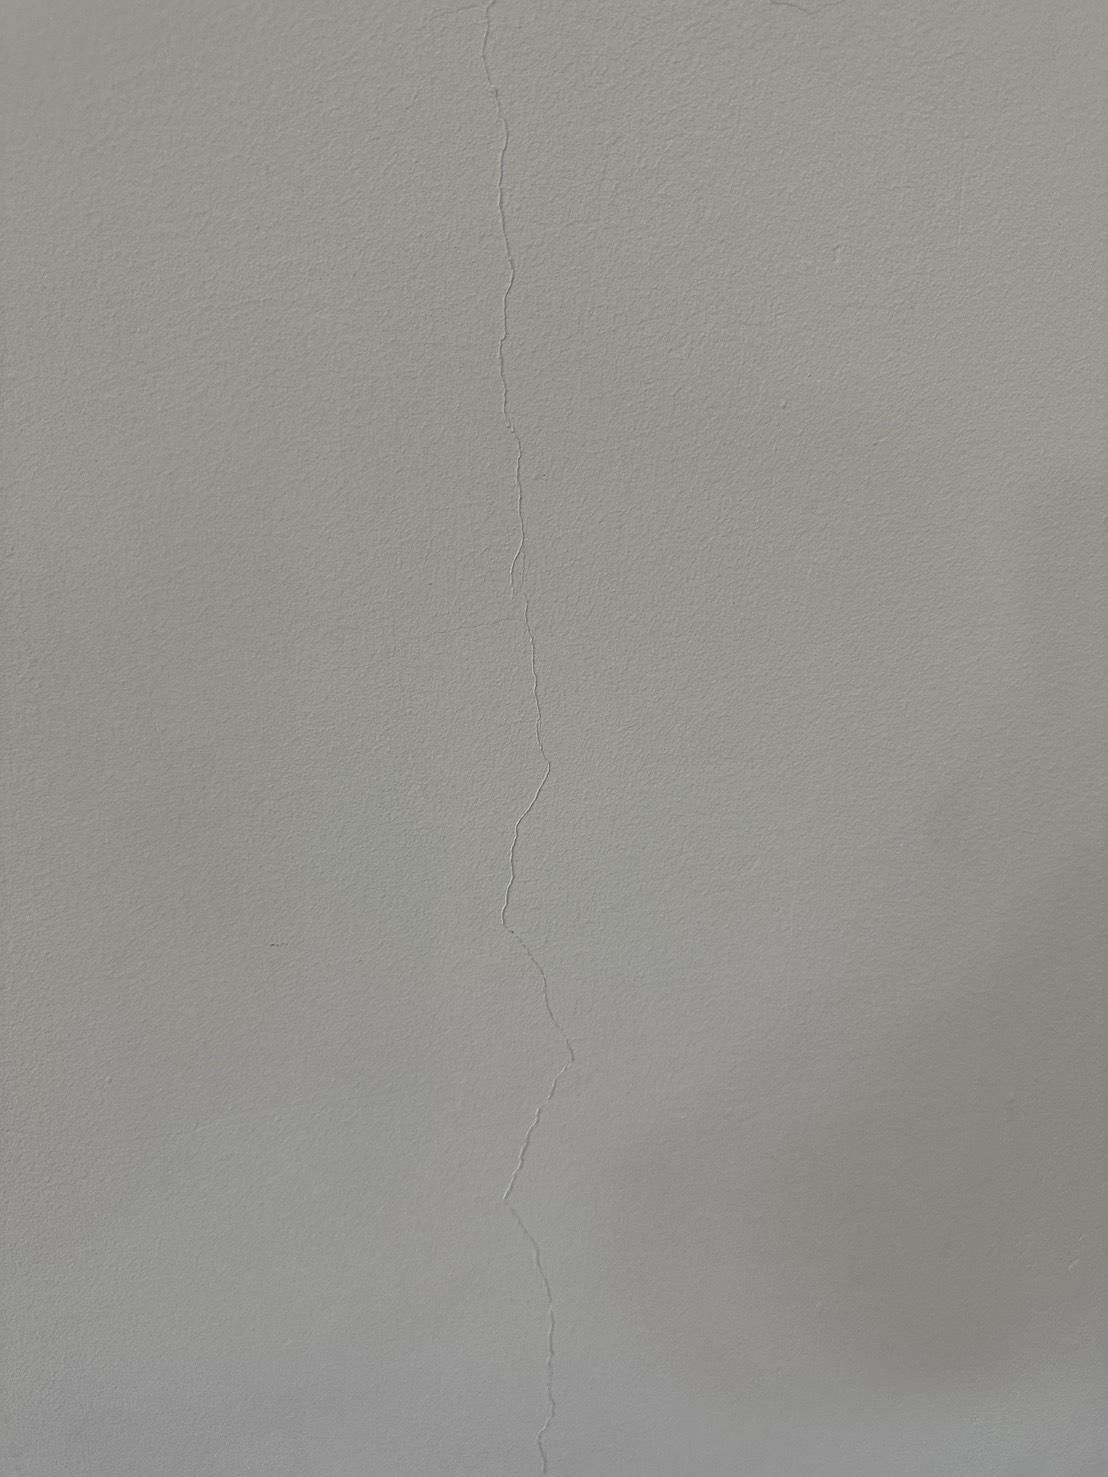Low: (417, 1, 699, 1477)
